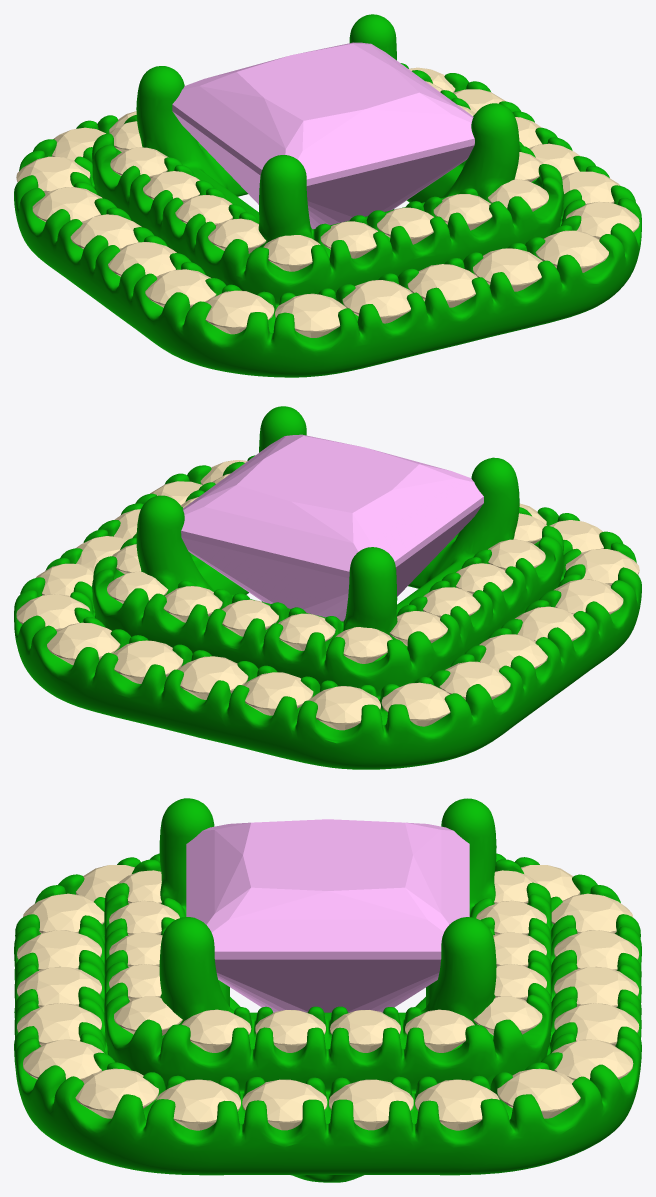
3 renders of one model, top to bottom at view 1: azimuth 30°, elevation 25°; view 2: azimuth 150°, elevation 25°; view 3: azimuth 270°, elevation 25°, orthographic. The views are drawn at different scales.
Visible parts, largest first — view 1: Metal01, Diamond_Princess, Diamond_Round.018, Diamond_Round.017, Diamond_Round.021, Diamond_Round.019, Diamond_Round.020, Diamond_Round, Diamond_Round.016, Diamond_Round.013, Diamond_Round.015, Diamond_Round.001 (+18 smaller); view 2: Metal01, Diamond_Princess, Diamond_Round.011, Diamond_Round.012, Diamond_Round.008, Diamond_Round.010, Diamond_Round.009, Diamond_Round.007, Diamond_Round.013, Diamond_Round.016, Diamond_Round.014, Diamond_Round.006 (+18 smaller); view 3: Metal01, Diamond_Princess, Diamond_Round.001, Diamond_Round.006, Diamond_Round.002, Diamond_Round.005, Diamond_Round.003, Diamond_Round.004, Diamond_Round, Diamond_Round.007, Diamond_Round.009, Diamond_Round.020 (+22 smaller).
Part boxes in pixels (<box>): Metal01: <box>14,14,641,377</box>; Diamond_Princess: <box>172,42,474,229</box>; Diamond_Round.018: <box>275,293,346,337</box>; Diamond_Round.017: <box>205,290,274,334</box>; Diamond_Round.021: <box>473,248,542,291</box>; Diamond_Round.019: <box>342,280,412,323</box>; Diamond_Round.020: <box>407,264,477,307</box>; Diamond_Round: <box>535,230,608,272</box>; Diamond_Round.016: <box>145,269,216,307</box>; Diamond_Round.013: <box>32,187,102,221</box>; Diamond_Round.015: <box>108,242,176,276</box>; Diamond_Round.001: <box>566,201,639,239</box>; Metal01: <box>14,406,641,769</box>; Diamond_Princess: <box>181,434,483,621</box>; Diamond_Round.011: <box>309,686,380,730</box>; Diamond_Round.012: <box>381,682,450,726</box>; Diamond_Round.008: <box>113,640,183,683</box>; Diamond_Round.010: <box>243,672,313,715</box>; Diamond_Round.009: <box>178,656,248,699</box>; Diamond_Round.007: <box>47,622,120,664</box>; Diamond_Round.013: <box>439,661,510,699</box>; Diamond_Round.016: <box>554,579,623,614</box>; Diamond_Round.014: <box>479,634,547,668</box>; Diamond_Round.006: <box>16,594,89,631</box>; Metal01: <box>14,798,641,1182</box>; Diamond_Princess: <box>186,819,469,1012</box>; Diamond_Round.001: <box>75,1068,158,1118</box>; Diamond_Round.006: <box>497,1068,580,1118</box>; Diamond_Round.002: <box>156,1079,240,1130</box>; Diamond_Round.005: <box>415,1079,499,1130</box>; Diamond_Round.003: <box>242,1079,327,1130</box>; Diamond_Round.004: <box>329,1079,413,1130</box>; Diamond_Round: <box>23,1039,103,1080</box>; Diamond_Round.007: <box>552,1039,633,1080</box>; Diamond_Round.009: <box>554,966,638,1007</box>; Diamond_Round.020: <box>17,966,101,1007</box>.
Size of the model in its own units: 11.08 by 6.13 by 11.08.
